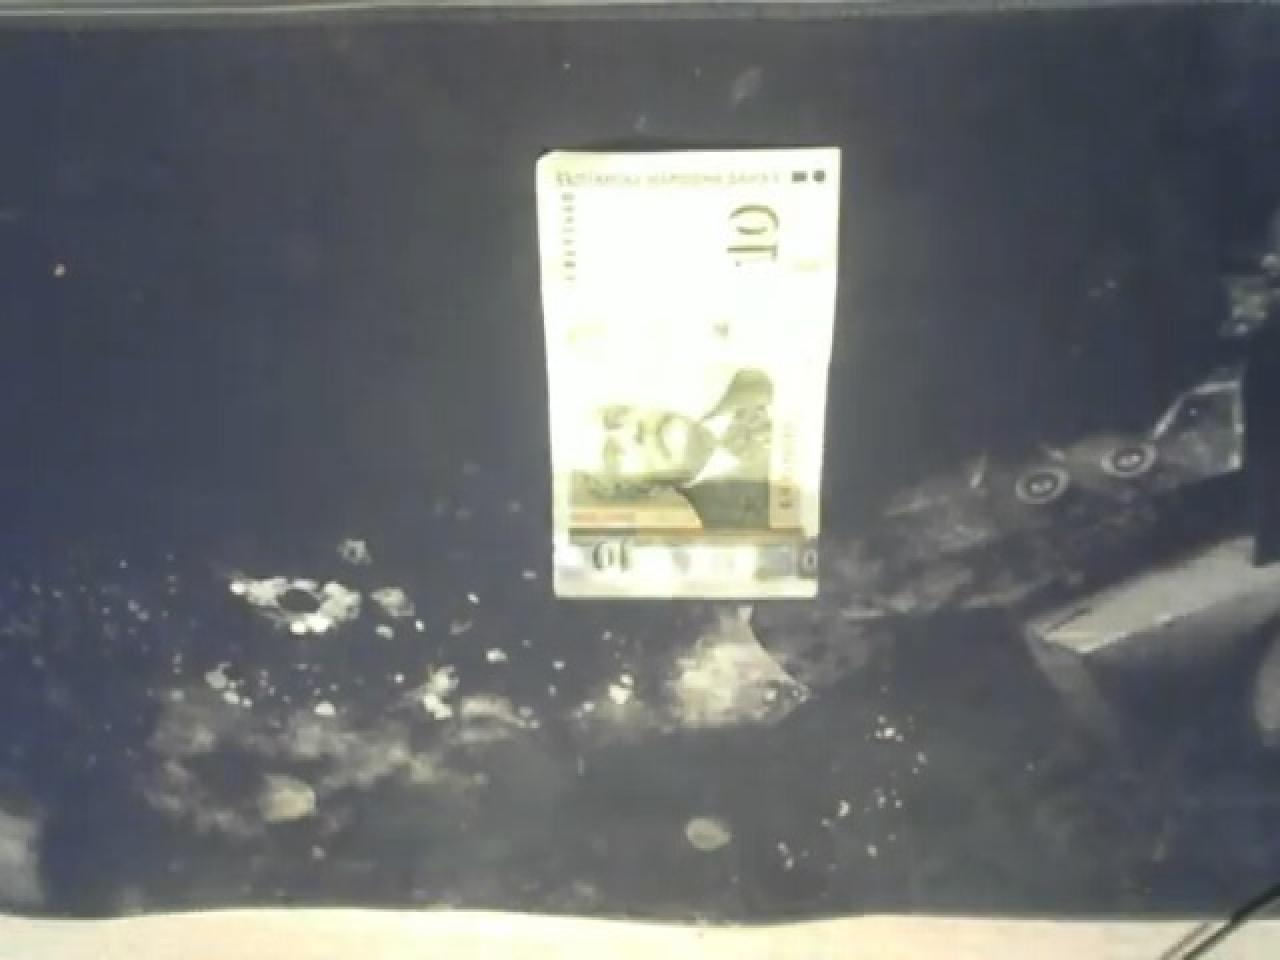10leva: (534, 147, 844, 605)
